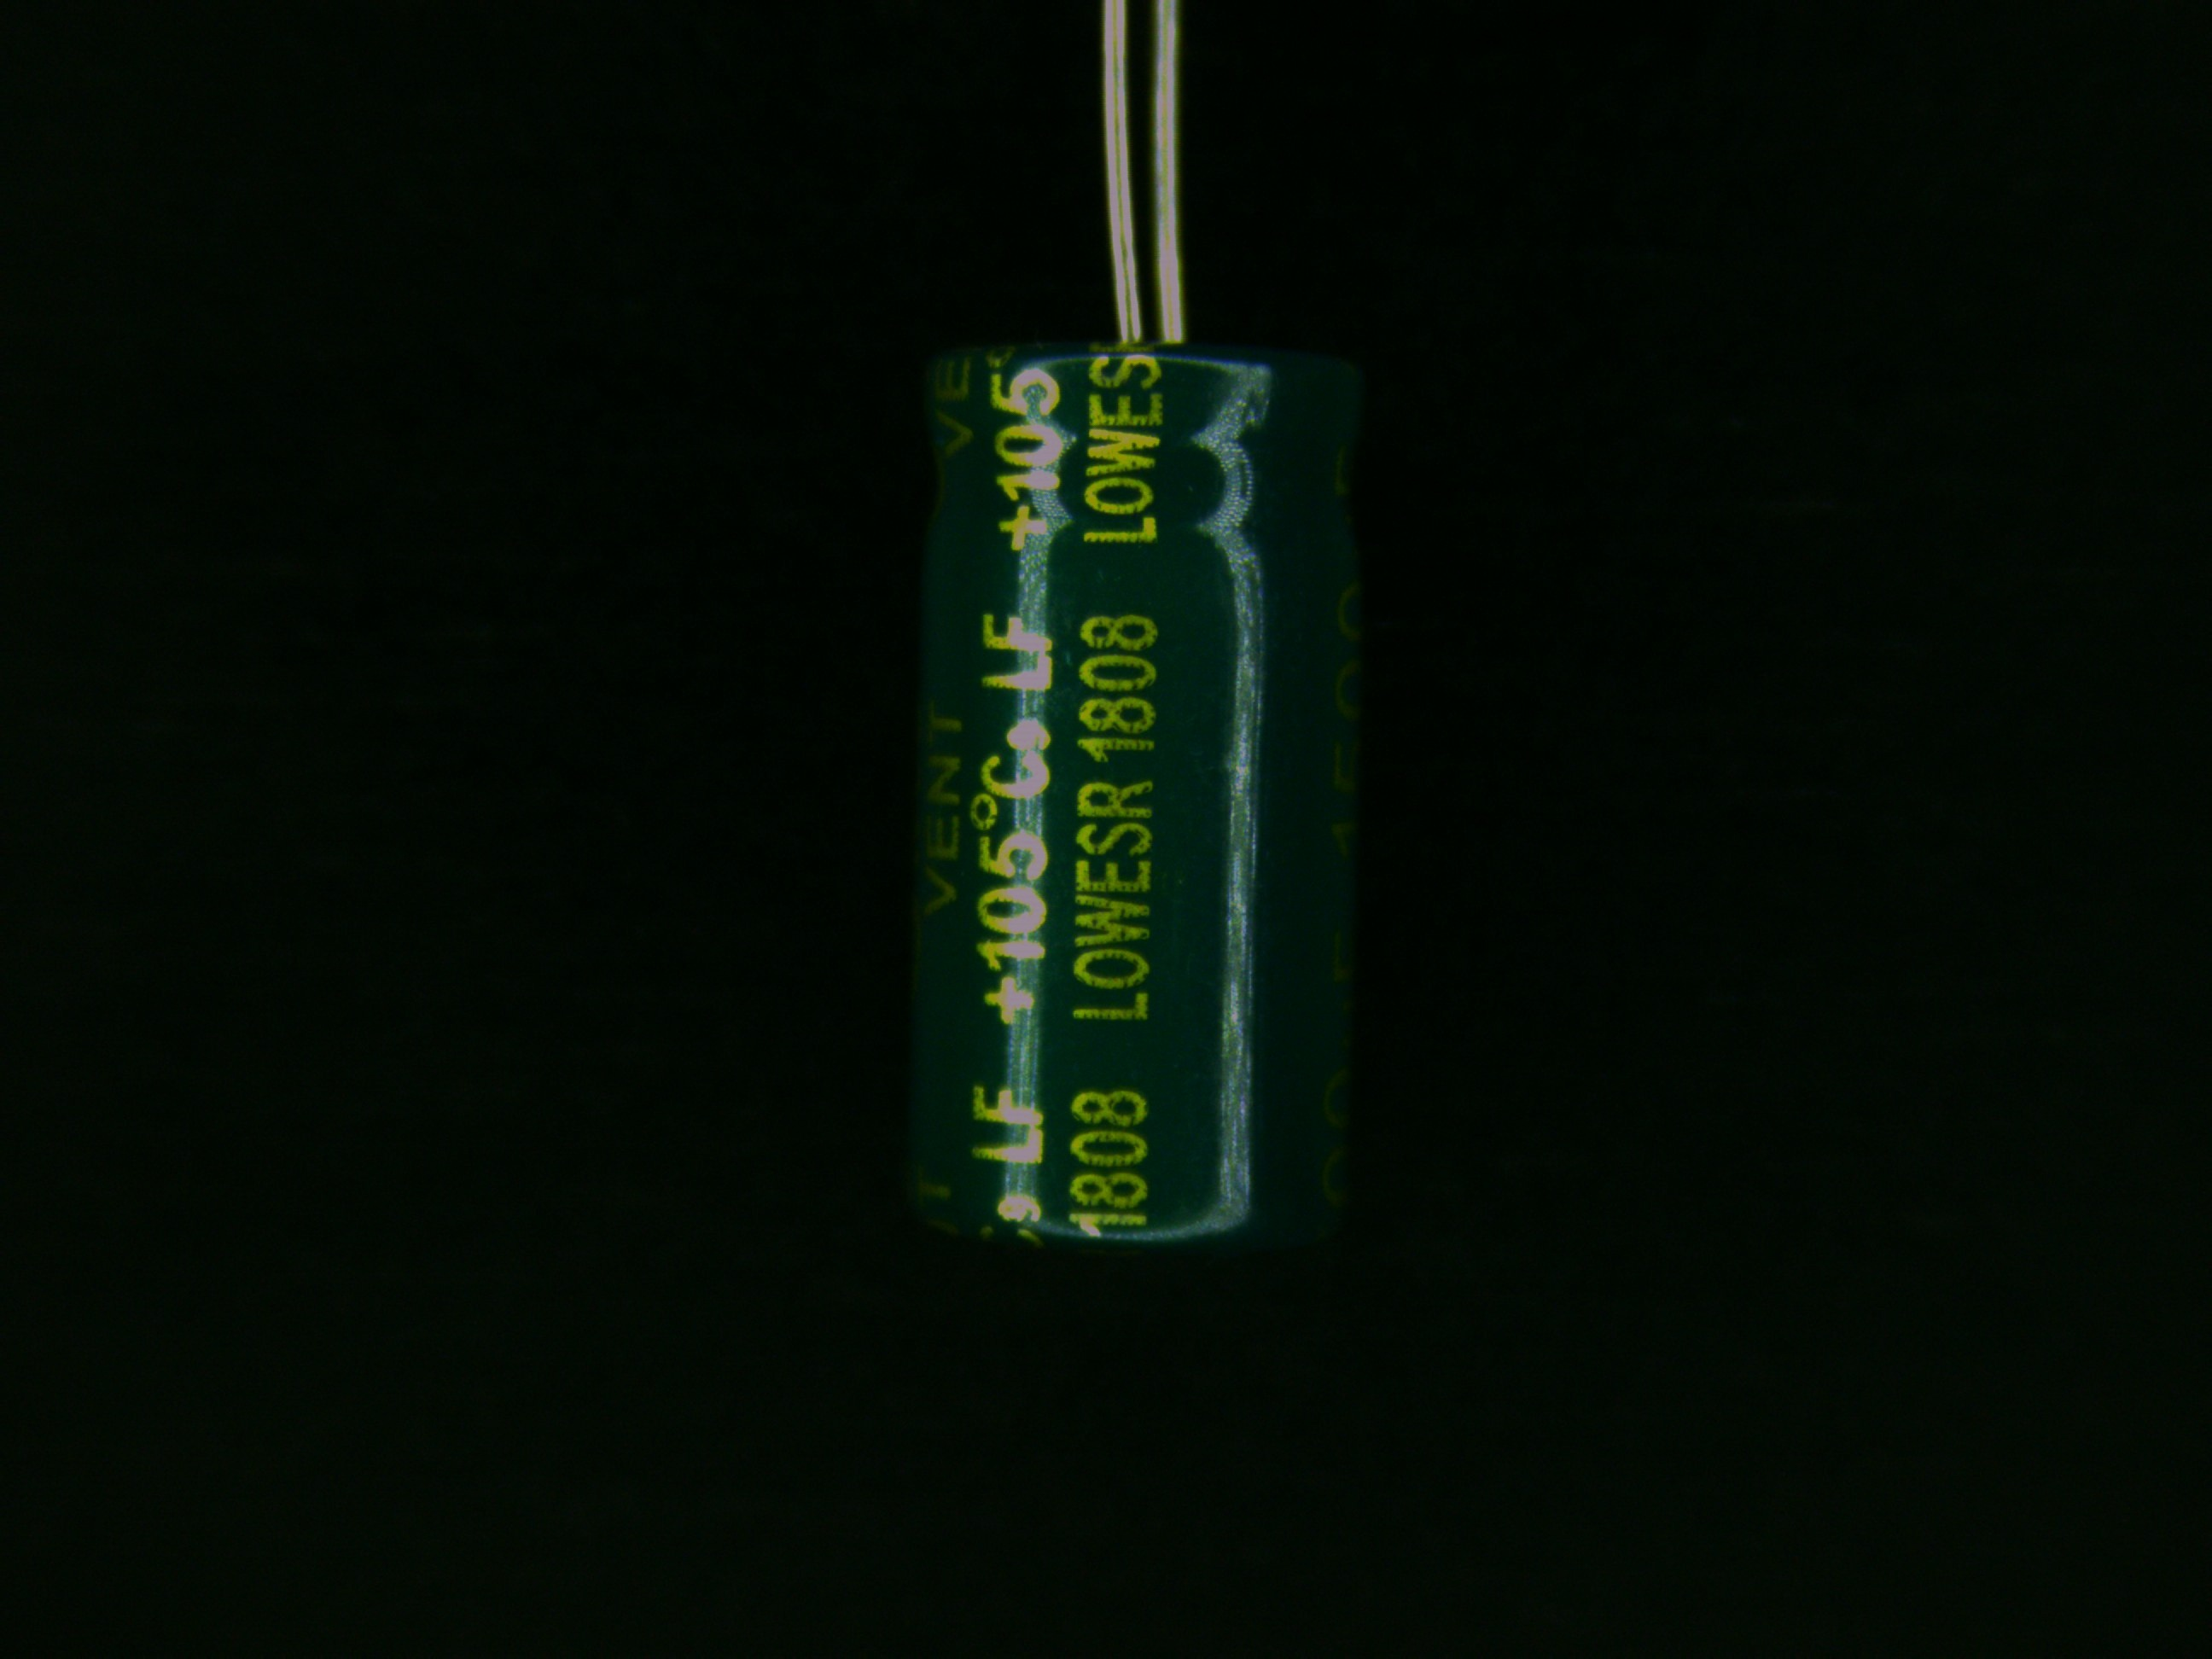c1: (900, 296, 1374, 1246)
